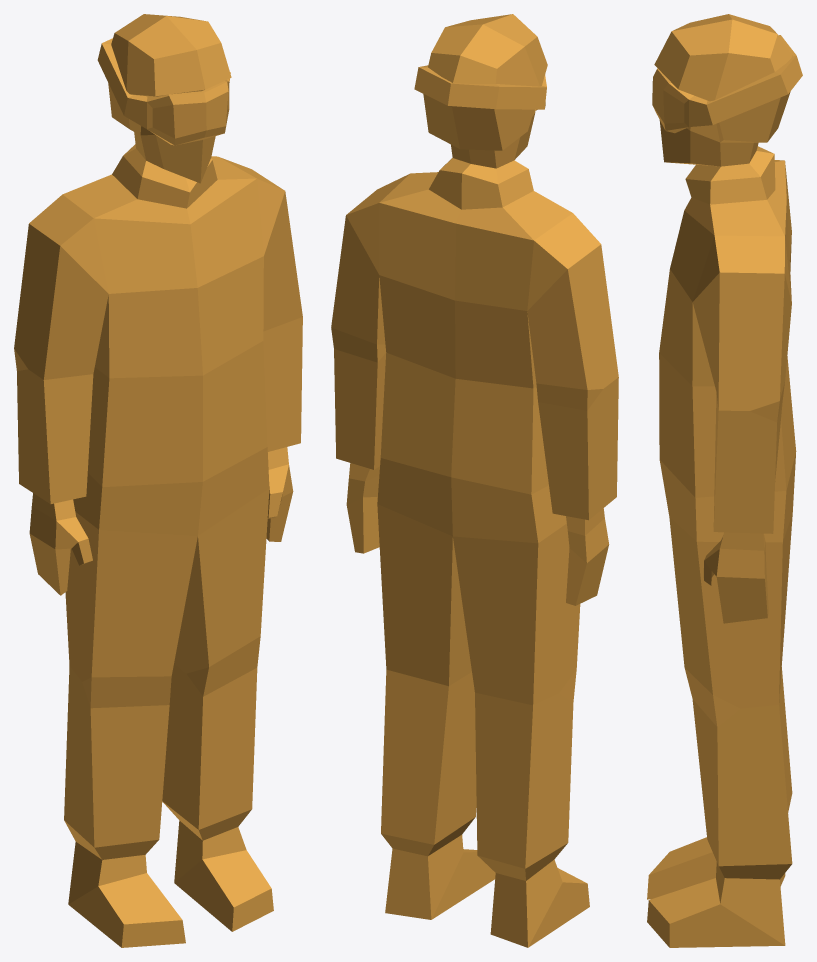
File: man-ski.fbx
3 views of the same model, side by side, from view 1: azimuth 30°, elevation 25°; view 2: azimuth 150°, elevation 25°; view 3: azimuth 270°, elevation 25° (orthographic).
Visible parts, largest first — view 1: man-ski; view 2: man-ski; view 3: man-ski.
Boxes of the visible parts, box(x1,y1,x2,y2) form: man-ski: box(14, 14, 302, 947); man-ski: box(331, 14, 618, 947); man-ski: box(647, 14, 802, 947).
Size of the model in its own units: 0.5631 by 1.85 by 0.2931.
